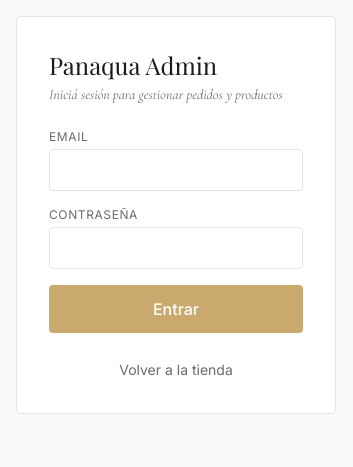
AdminLogin › muestra error con credenciales inválidas
Type "mala@test.com" into the field labelled "Email" at [176, 170], box [49,149,303,191]
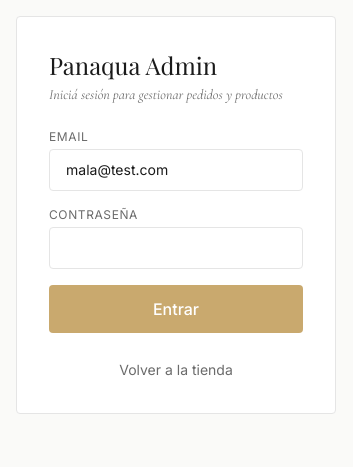
Type "x" into the password field labelled "Contraseña" at [176, 248], box [49,227,303,269]
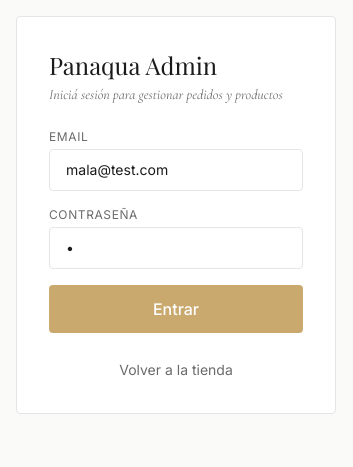
Click the button "Entrar" at [176, 309], box [49,285,303,333]
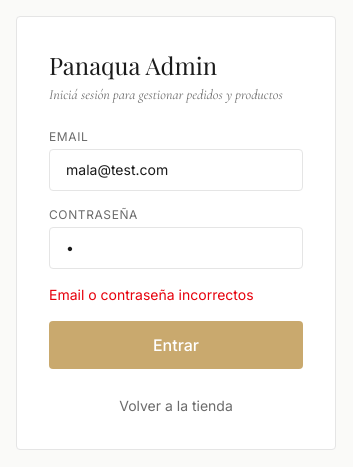
Now the message reads "Email o contraseña incorrectos", box [49,286,254,303]
